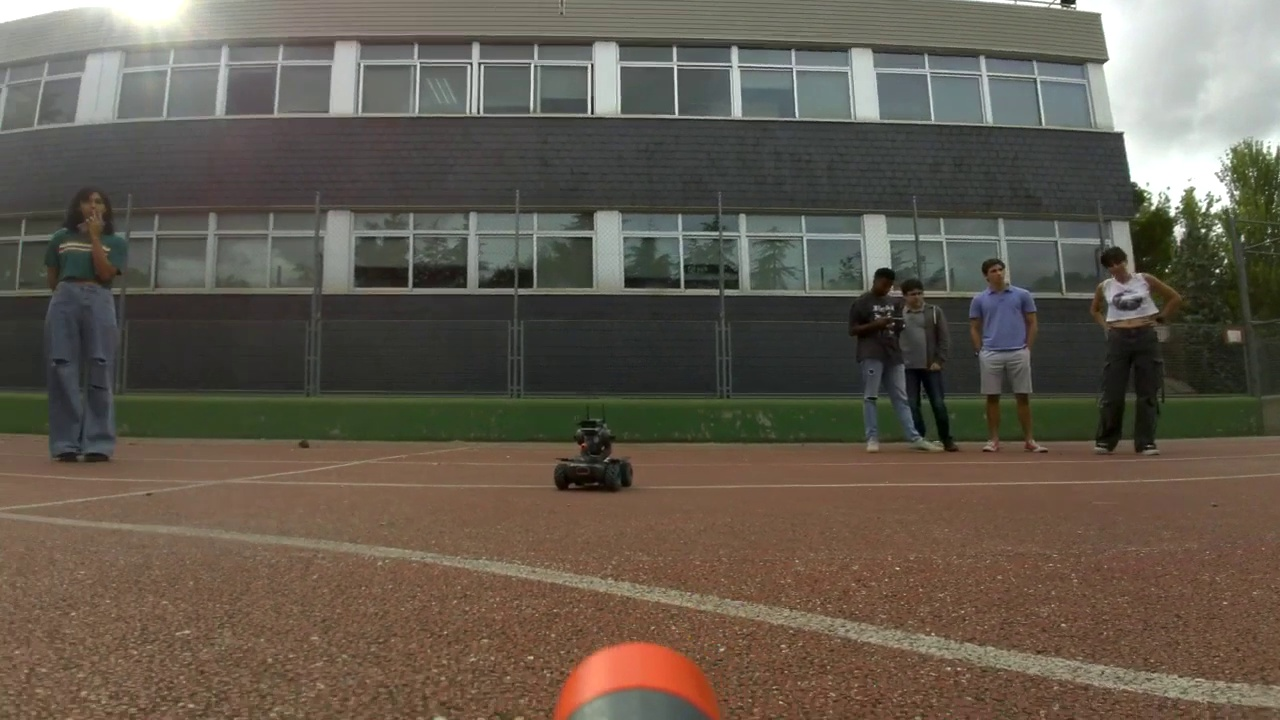robot: (555, 417, 634, 493)
